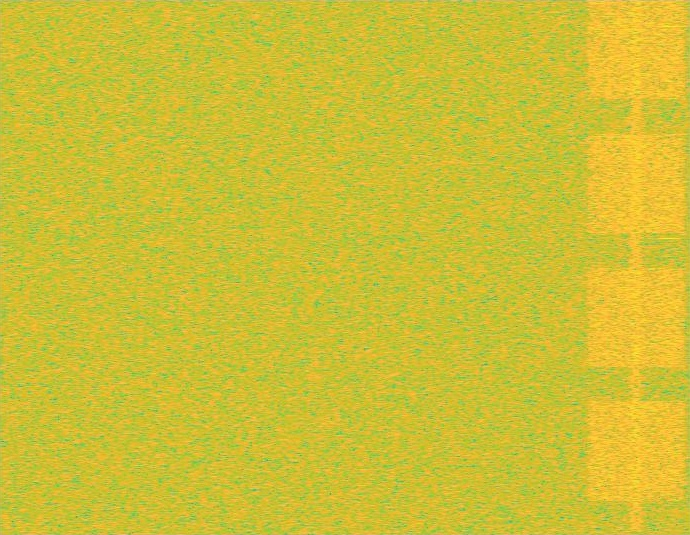5G: (585, 0, 688, 534)
DSSS: (629, 0, 643, 534)
Radar: (662, 0, 676, 534)
